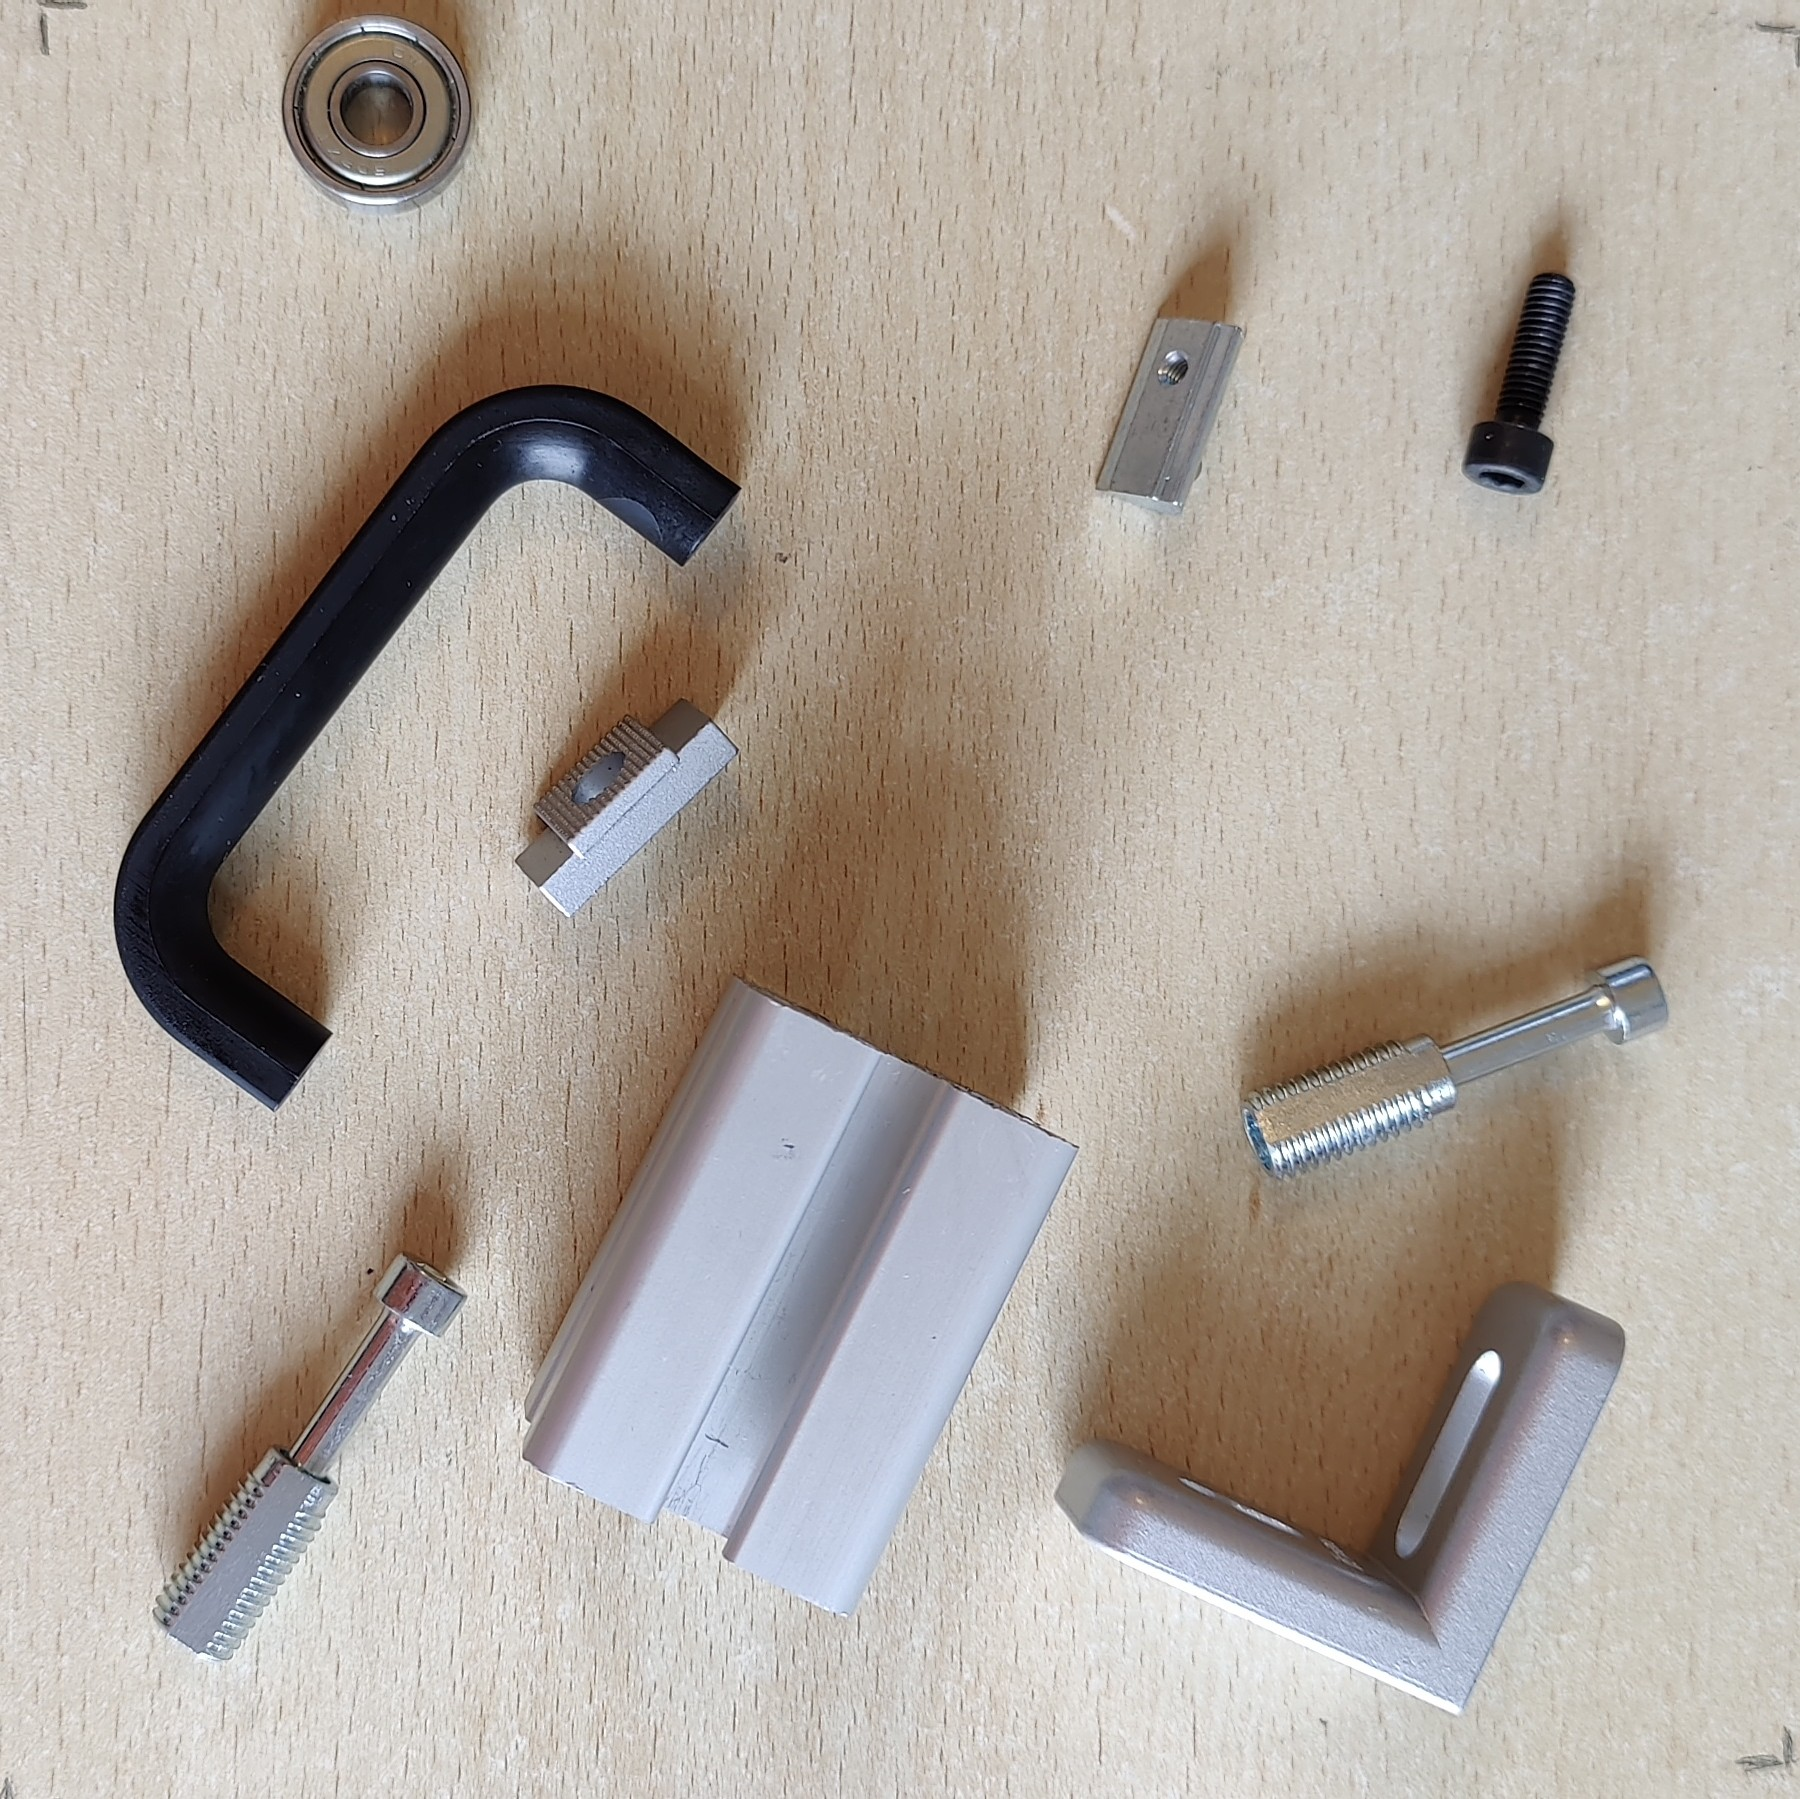Aluminium Extension: (520, 967, 1082, 1624)
Ball Bearing: (282, 12, 478, 217)
Multiwinkel: (1051, 1277, 1627, 1722)
Pull Handle: (112, 381, 746, 1114)
Shoulder Socket Head Cap Screw: (152, 1249, 469, 1662), (1237, 951, 1673, 1183)
Socket Head Cap Screw: (1459, 269, 1578, 496)
T Nut Square: (511, 695, 743, 921)
T Spring Nut: (1092, 313, 1248, 519)
